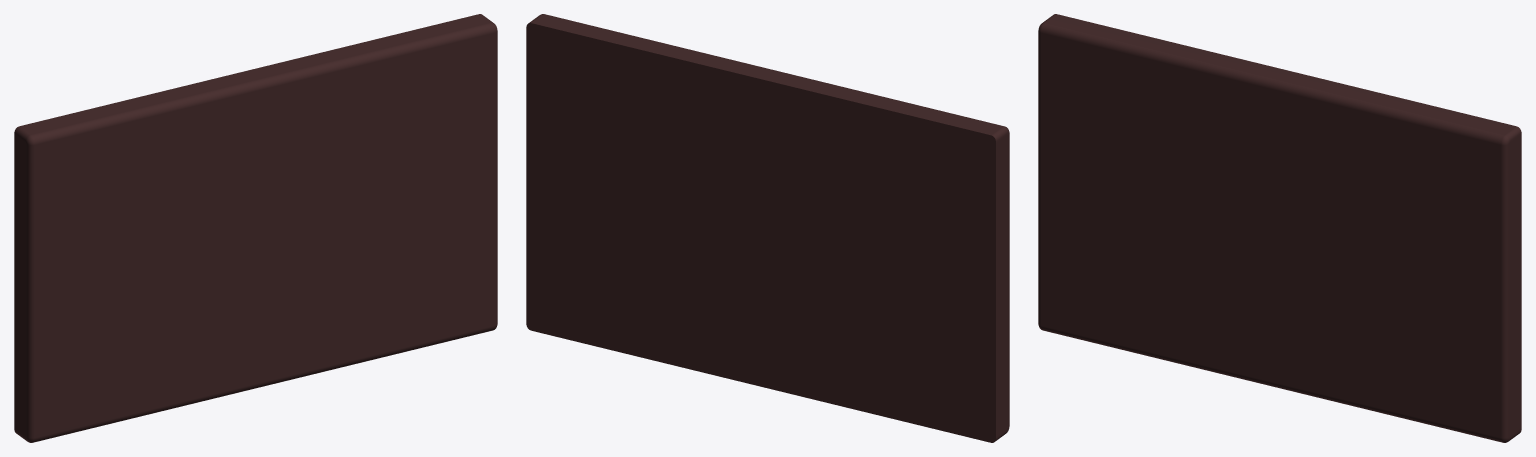
Rendered from KitchenCabinet_2_Hinges_3.fbx.
The picture shows the model from 3 angles, left to right: view 1: azimuth 30°, elevation 25°; view 2: azimuth 150°, elevation 25°; view 3: azimuth 330°, elevation 25°; orthographic projection.
Visible parts, largest first — view 1: KitchenCabinet_2_Hinges_1_pCube73, KitchenCabinet_2_Hinges_1_pCube74; view 2: KitchenCabinet_2_Hinges_1_pCube73, KitchenCabinet_2_Hinges_1_pCube74; view 3: KitchenCabinet_2_Hinges_1_pCube74, KitchenCabinet_2_Hinges_1_pCube73.
Part boxes in pixels (x1,y1,x2,y2): KitchenCabinet_2_Hinges_1_pCube73: (14, 70, 264, 442); KitchenCabinet_2_Hinges_1_pCube74: (249, 14, 497, 386); KitchenCabinet_2_Hinges_1_pCube73: (761, 70, 1009, 442); KitchenCabinet_2_Hinges_1_pCube74: (526, 14, 773, 386); KitchenCabinet_2_Hinges_1_pCube74: (1271, 70, 1521, 442); KitchenCabinet_2_Hinges_1_pCube73: (1038, 14, 1286, 386).
Size of the model in its own units: 46.67 by 29.21 by 2.7.
